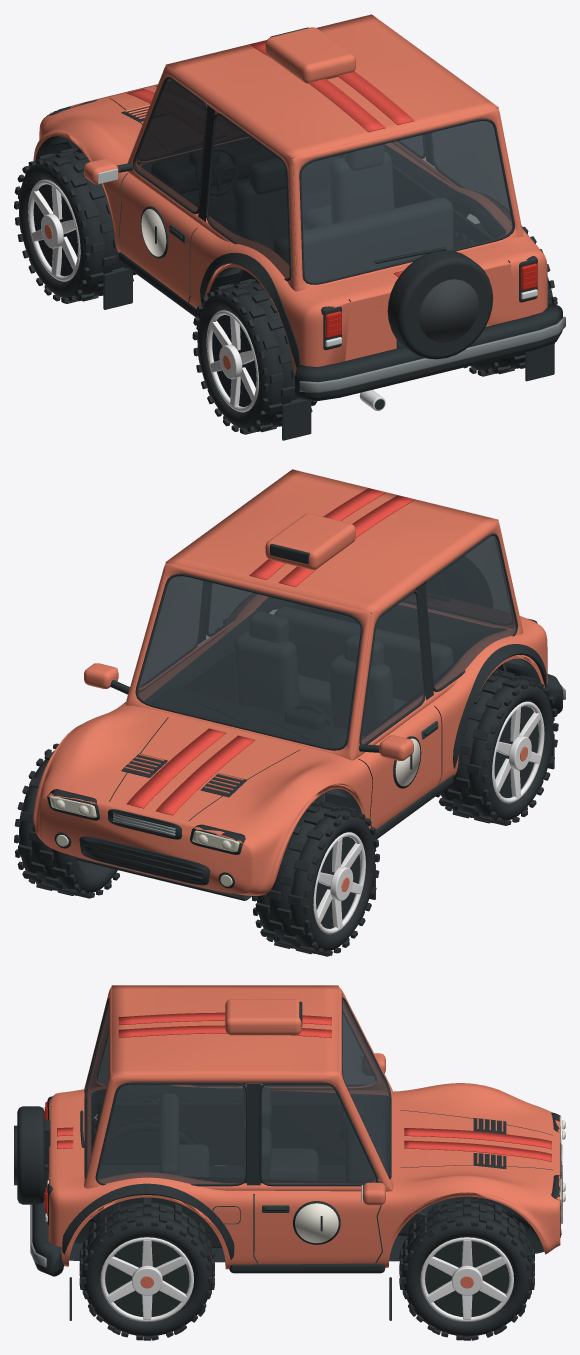
File: sabaku.fbx
3 renders of one model, top to bottom at view 1: azimuth 30°, elevation 25°; view 2: azimuth 150°, elevation 25°; view 3: azimuth 270°, elevation 25°, orthographic. The views are drawn at different scales.
Visible parts, largest first — view 1: Body, Wheel_RL_Mesh, Wheel_FL_Mesh, Wheel_RR_Mesh; view 2: Body, Wheel_FL_Mesh, Wheel_RL_Mesh, Wheel_FR_Mesh; view 3: Body, Wheel_FR_Mesh, Wheel_RR_Mesh, Wheel_RL_Mesh.
Boxes of the visible parts, x1,y1,x2,y2 form: Body: [33, 14, 565, 440]; Wheel_RL_Mesh: [192, 279, 316, 434]; Wheel_FL_Mesh: [14, 148, 136, 303]; Wheel_RR_Mesh: [453, 223, 557, 376]; Body: [33, 469, 565, 900]; Wheel_FL_Mesh: [252, 800, 379, 956]; Wheel_RL_Mesh: [436, 670, 558, 825]; Wheel_FR_Mesh: [14, 743, 119, 898]; Body: [14, 985, 565, 1320]; Wheel_FR_Mesh: [399, 1198, 534, 1340]; Wheel_RR_Mesh: [79, 1198, 214, 1340]; Wheel_RL_Mesh: [91, 1098, 211, 1165].
Size of the model in its own units: 244 by 218 by 404.
